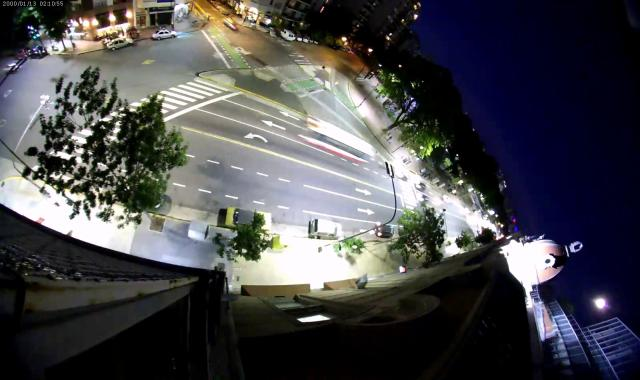bus: (302, 115, 374, 165)
car: (224, 206, 274, 233), (309, 219, 342, 239), (106, 37, 134, 51), (374, 222, 394, 237), (152, 29, 177, 41), (28, 45, 48, 59), (223, 17, 240, 32), (15, 46, 31, 59), (280, 28, 293, 42), (4, 63, 20, 74), (395, 170, 408, 182), (417, 194, 430, 204), (211, 0, 224, 10), (414, 182, 426, 191), (442, 194, 451, 203), (296, 34, 302, 42), (302, 36, 308, 43), (465, 207, 471, 212)
